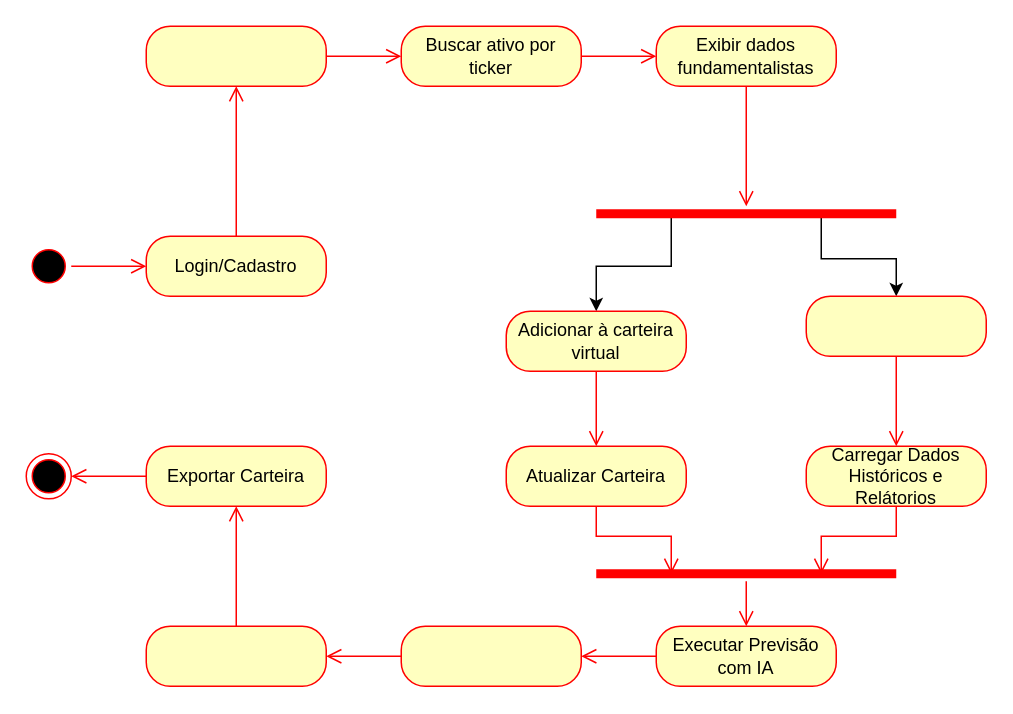
Some shapes in this 1013 by 714 pixel diagram are drawn without their labels. Each missing label, with the box of its shape:
Exibir Grafico e Texto da Projeção Futura: (400, 625, 581, 686)
Ir para aba "Previsão": (805, 295, 986, 356)
Salvar Previsão/Configurar Alerta de Previsão: (145, 625, 326, 686)
Tela Principal: (145, 25, 326, 86)
